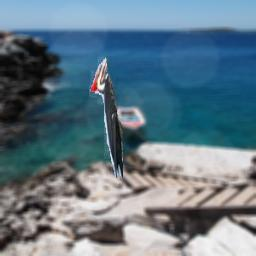Woodpecker: (89, 50, 123, 180)
